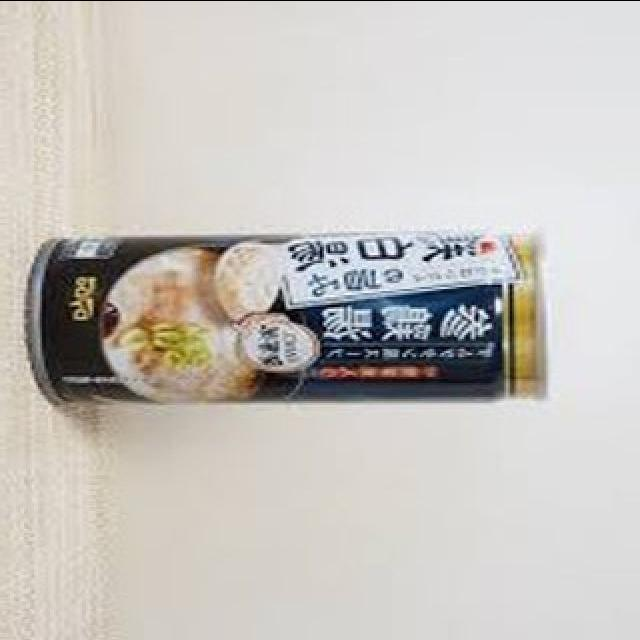can: (28, 226, 562, 410)
